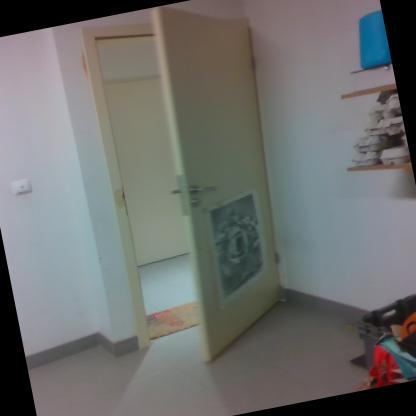semi: (71, 0, 326, 379)
